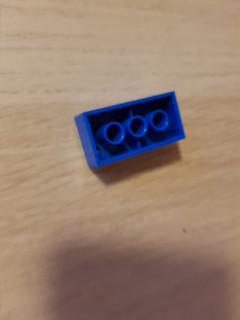2x4 blue: (73, 89, 188, 171)
